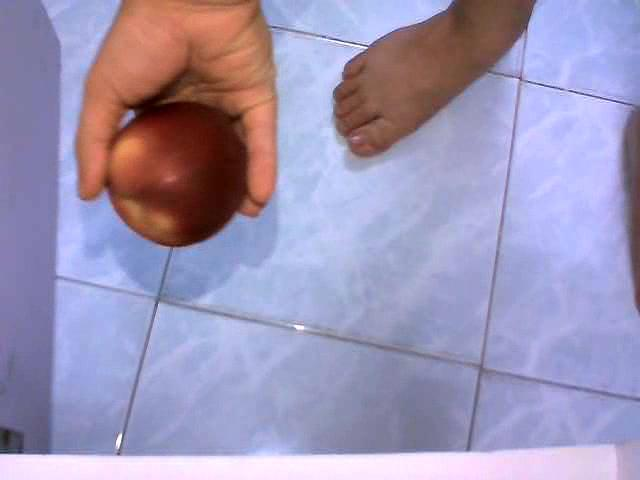apple: (102, 98, 251, 247)
